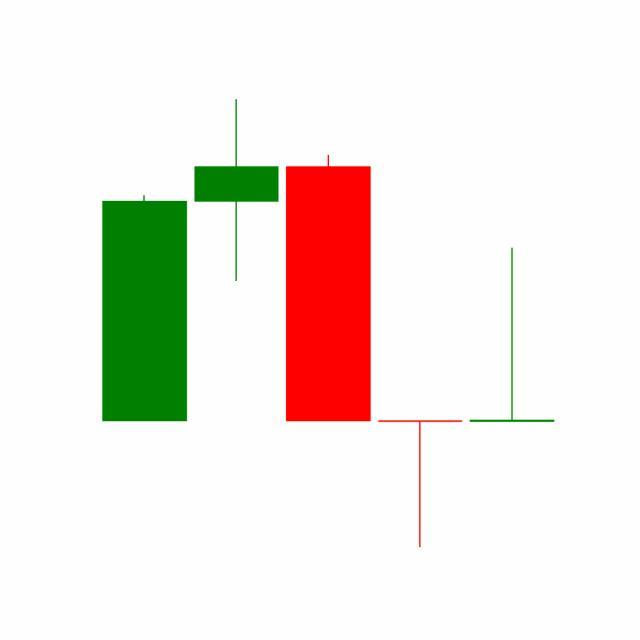Hammer: (374, 420, 468, 550)
